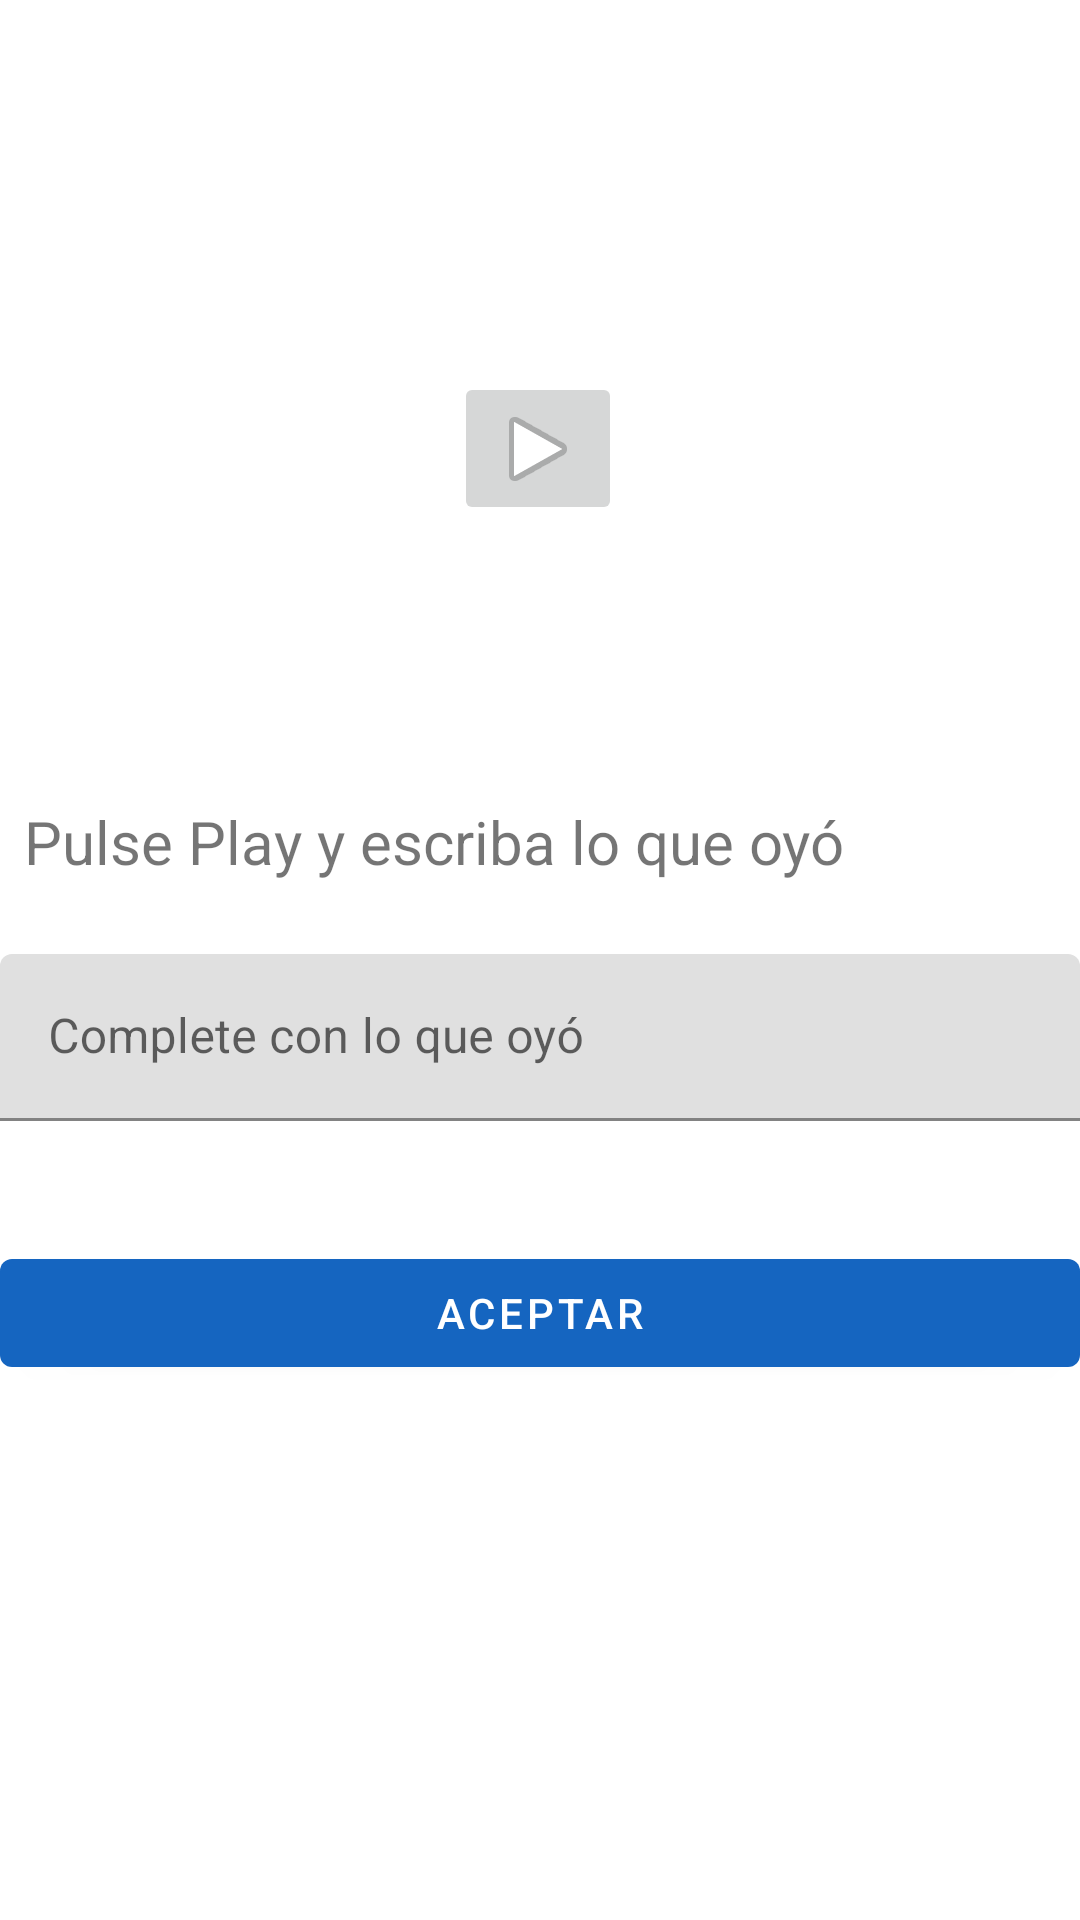

Named icons in this screenshot (1080 x 1920) and their centers, point (x, y):
play: point (538, 448)
